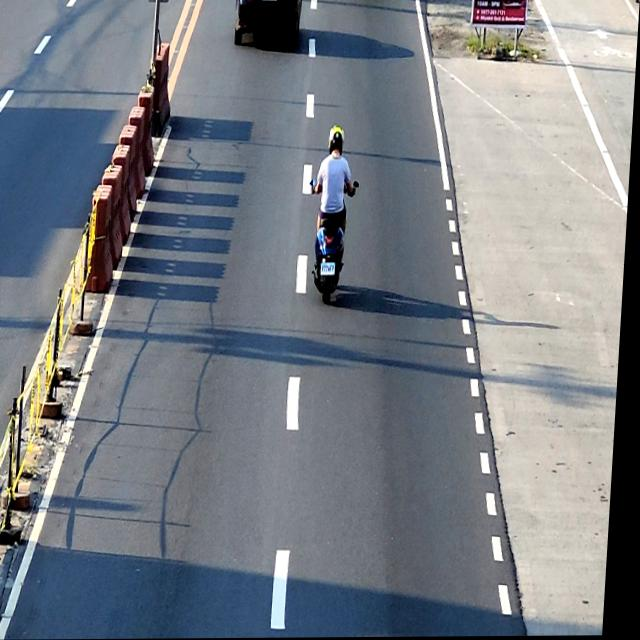Car: (235, 0, 303, 47)
License-Plate: (324, 263, 338, 275)
Motorcycle: (306, 178, 362, 305)
